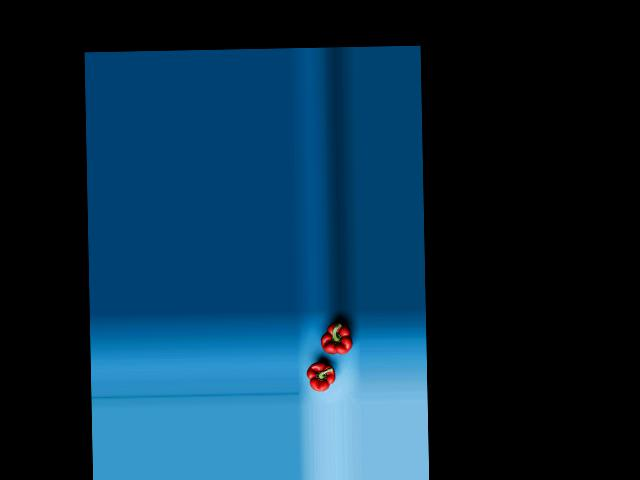bell_pepper: (316, 318, 352, 361)
